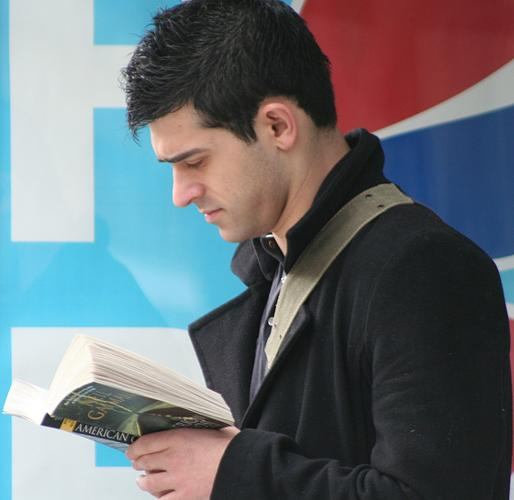person: (126, 1, 513, 500)
